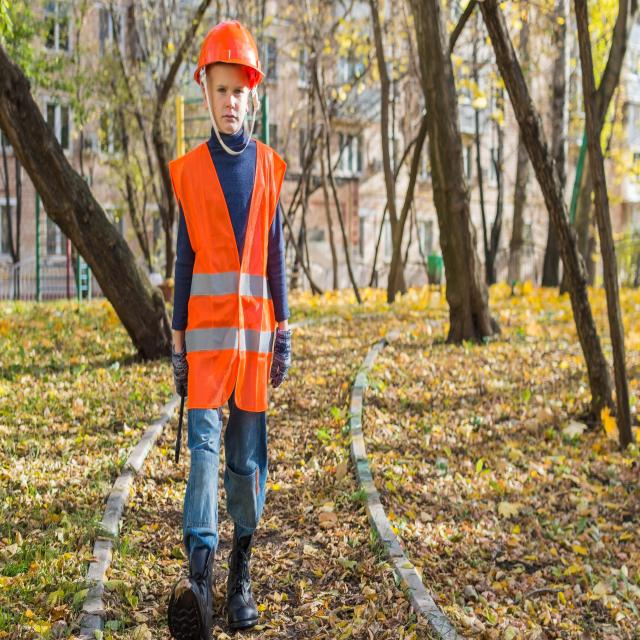helmet: (188, 19, 286, 92)
shoes: (157, 533, 222, 637), (225, 528, 268, 631)
vest: (158, 128, 284, 416)
